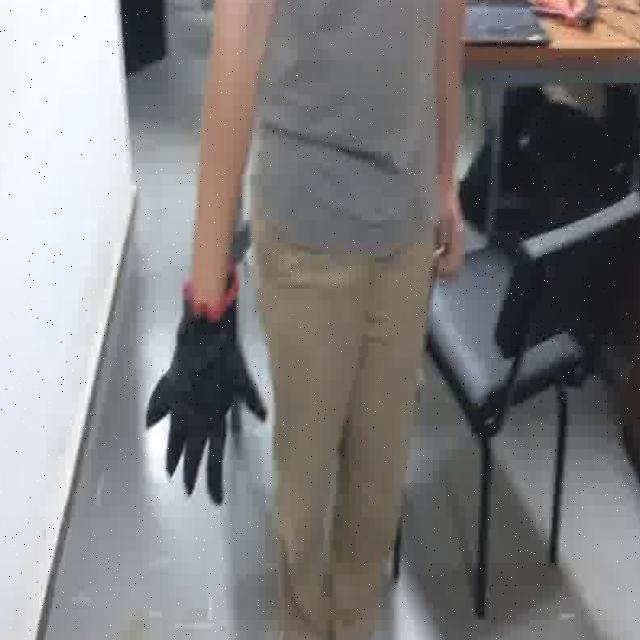Gloves: (137, 264, 276, 508)
